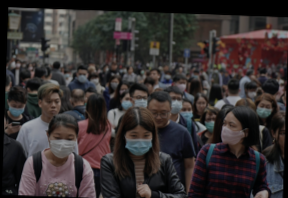with_mask: (122, 128, 152, 157), (47, 131, 76, 160), (220, 118, 244, 148), (167, 95, 184, 116), (131, 94, 149, 113), (7, 102, 25, 119), (256, 103, 272, 121), (203, 114, 217, 134), (178, 106, 194, 121), (174, 79, 188, 93), (120, 96, 132, 110), (76, 72, 89, 82), (246, 88, 257, 99), (88, 75, 99, 85), (109, 79, 118, 91), (119, 86, 128, 97), (14, 60, 21, 70), (163, 72, 171, 80), (26, 63, 33, 71), (20, 60, 27, 68), (212, 67, 219, 74), (103, 65, 109, 73), (64, 71, 70, 78), (139, 67, 144, 75)
without_mask: (39, 96, 62, 119), (148, 106, 171, 129), (195, 99, 208, 114), (149, 71, 159, 82)
